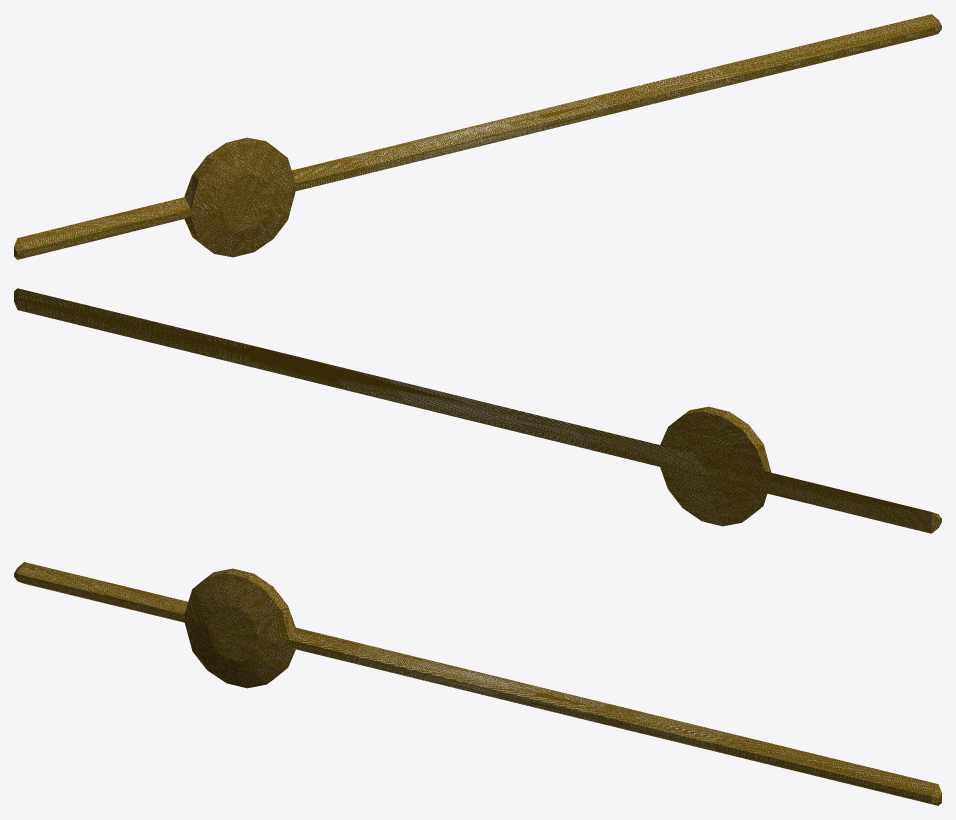
Rendered from original-3.obj.
The picture shows the model from 3 angles, top to bottom: view 1: azimuth 30°, elevation 25°; view 2: azimuth 150°, elevation 25°; view 3: azimuth 330°, elevation 25°; orthographic projection.
Visible parts, largest first — view 1: second/mesh3/mesh3-geometry#mesh3-geometry; view 2: second/mesh3/mesh3-geometry#mesh3-geometry; view 3: second/mesh3/mesh3-geometry#mesh3-geometry.
Boxes of the visible parts, bbox=[...] form: second/mesh3/mesh3-geometry#mesh3-geometry: bbox=[14, 14, 941, 259]; second/mesh3/mesh3-geometry#mesh3-geometry: bbox=[14, 288, 941, 533]; second/mesh3/mesh3-geometry#mesh3-geometry: bbox=[14, 562, 941, 805].
Bounding box in the file's own units: 0.7583 × 0.086 × 0.015.
